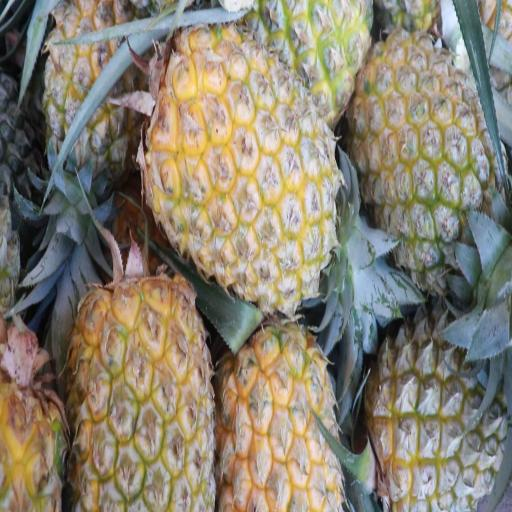------------------------------: (376, 315, 510, 512), (41, 0, 143, 179)
Pineapple - v8 v1: (154, 31, 340, 290), (74, 258, 217, 512), (351, 32, 496, 256), (219, 324, 344, 512)
